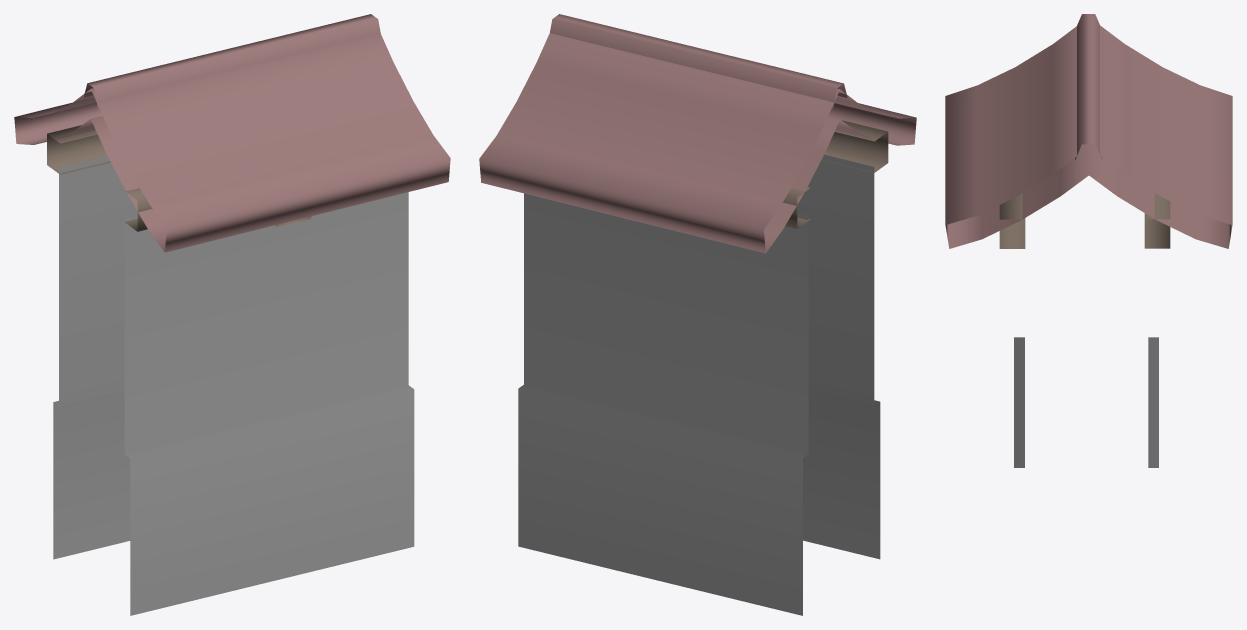
Rendered from building_wall_piece.fbx.
3 renders of one model, left to right at view 1: azimuth 30°, elevation 25°; view 2: azimuth 150°, elevation 25°; view 3: azimuth 270°, elevation 25°, orthographic. The views are drawn at different scales.
Visible parts, largest first — view 1: building_wall_piece; view 2: building_wall_piece; view 3: building_wall_piece.
Boxes of the visible parts, x1,y1,x2,y2 form: building_wall_piece: (14,14,450,615); building_wall_piece: (479,14,916,615); building_wall_piece: (945,14,1232,467).
Bounding box in the file's own units: 200 × 337 × 186.
